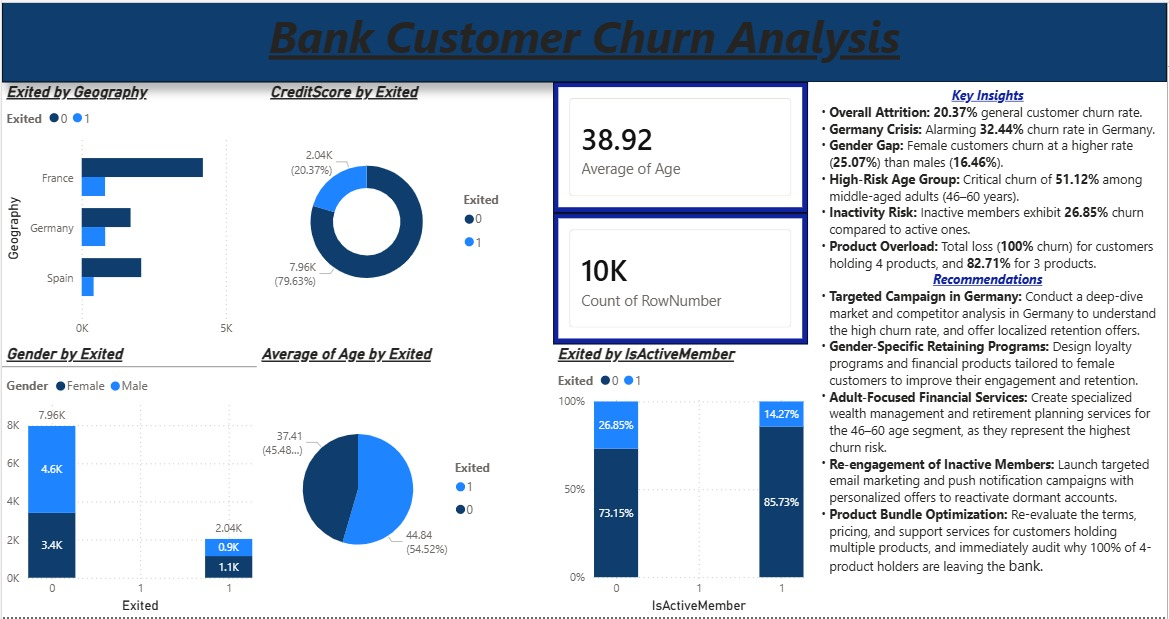

This screenshot's page, from the dashboard's own definition file:
{"tool":"powerbi","page":{"name":"Page 2","canvas":[1280,720],"ordinal":1},"visuals":[{"type":"columnChart","title":" Gender by Exited ","fields":{"Category":["Churn_Modelling.Exited"],"Y":["CountNonNull(Churn_Modelling.Gender)"],"Series":["Churn_Modelling.Gender"]},"box":[0,420.3,280.2,299.5],"z":0},{"type":"clusteredBarChart","title":"Exited by Geography ","fields":{"Category":["Churn_Modelling.Geography"],"Y":["CountNonNull(Churn_Modelling.Exited)"],"Series":["Churn_Modelling.Exited"]},"box":[0,131.9,289.8,288.5],"z":1},{"type":"pieChart","title":"Average of Age by Exited ","fields":{"Y":["Avg(Churn_Modelling.Age)"],"Series":["Churn_Modelling.Exited"],"Category":["Churn_Modelling.Exited"]},"box":[280.2,420.3,280.2,299.5],"z":2},{"type":"donutChart","title":" CreditScore by Exited","fields":{"Y":["CountNonNull(Churn_Modelling.CreditScore)"],"Category":["Churn_Modelling.Exited"],"Series":["Churn_Modelling.Exited"]},"box":[289.8,131.9,280.2,288.5],"z":3},{"type":"hundredPercentStackedColumnChart","title":" Exited by IsActiveMember","fields":{"Series":["Churn_Modelling.Exited"],"Category":["Churn_Modelling.IsActiveMember"],"Y":["CountNonNull(Churn_Modelling.Exited)"]},"box":[605.8,420.3,280.2,299.5],"z":4},{"type":"textbox","box":[22,0,267.9,12.4],"z":5},{"type":"textbox","box":[280.2,0,280.2,12.4],"z":6},{"type":"textbox","box":[0,42.6,1280.3,89.3],"z":7},{"type":"cardVisual","fields":{"Data":["Avg(Churn_Modelling.Age)"]},"box":[605.8,131.9,280.2,144.2],"z":8},{"type":"cardVisual","fields":{"Data":["CountNonNull(Churn_Modelling.RowNumber)"]},"box":[605.8,276.1,280.2,144.2],"z":9},{"type":"textbox","box":[886,131.9,394.2,587.9],"z":10}]}

Visuals, with their boxes on the page's 1280x720 design canvas (x1, y1, x2, y2). These are canvas units, not pixel positions in the 1169x619 screenshot, which may show the page scaled, cropped or inside an application window:
" Gender by Exited " columnChart: 0, 420, 280, 720
"Exited by Geography " clusteredBarChart: 0, 132, 290, 420
"Average of Age by Exited " pieChart: 280, 420, 560, 720
" CreditScore by Exited" donutChart: 290, 132, 570, 420
" Exited by IsActiveMember" hundredPercentStackedColumnChart: 606, 420, 886, 720
textbox: 22, 0, 290, 12
textbox: 280, 0, 560, 12
textbox: 0, 43, 1280, 132
cardVisual - Avg(Churn_Modelling.Age): 606, 132, 886, 276
cardVisual - CountNonNull(Churn_Modelling.RowNumber): 606, 276, 886, 420
textbox: 886, 132, 1280, 720
